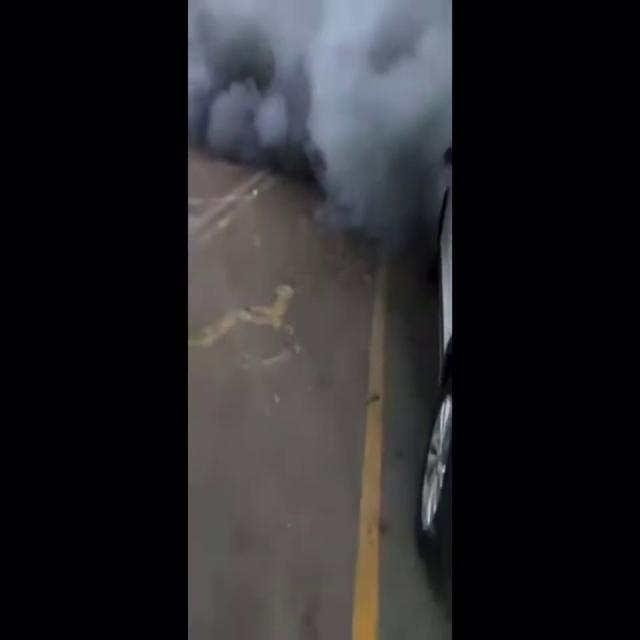Smoke: (302, 1, 452, 279), (188, 1, 324, 161)
